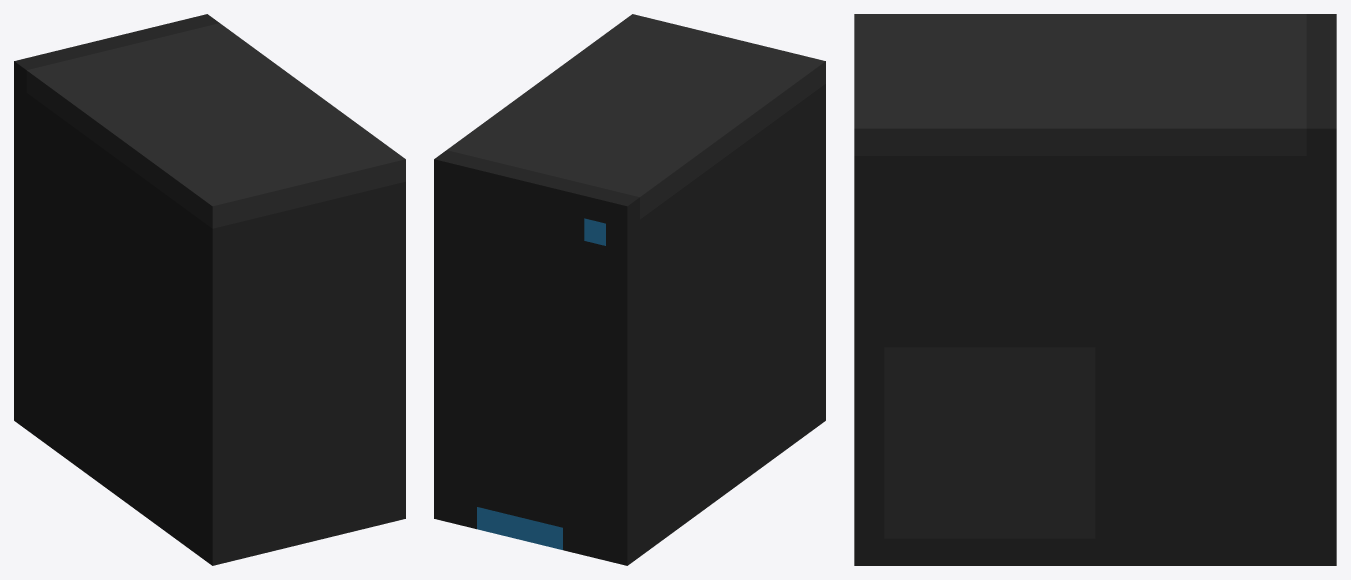
Rendered from computer_tower.glb.
3 renders of one model, left to right at view 1: azimuth 30°, elevation 25°; view 2: azimuth 150°, elevation 25°; view 3: azimuth 270°, elevation 25°, orthographic. The views are drawn at different scales.
Visible parts, largest first — view 1: Untitled.001; view 2: Untitled.001, Untitled; view 3: Untitled.001.
Boxes of the visible parts, x1=… form: Untitled.001: x1=14, y1=14, x2=405, y2=565; Untitled.001: x1=434, y1=14, x2=825, y2=565; Untitled: x1=477, y1=218, x2=605, y2=549; Untitled.001: x1=854, y1=14, x2=1336, y2=565.
Bounding box in the file's own units: 0.27 × 0.48 × 0.48.
Materials: 2 (2 with a texture image).
